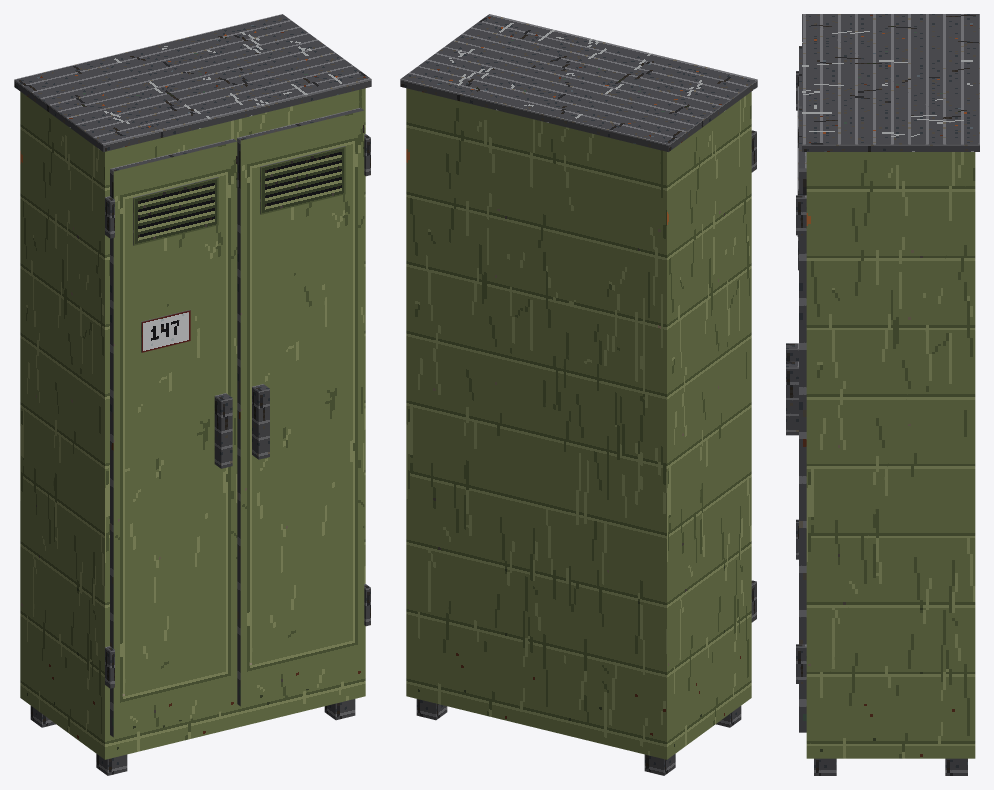
File: SM_Prop_LockerMetal_01.glb
3 views of the same model, side by side, from view 1: azimuth 30°, elevation 25°; view 2: azimuth 150°, elevation 25°; view 3: azimuth 270°, elevation 25° (orthographic).
Parts seen in each view (by area): view 1: SM_Prop_LockerMetal_01; view 2: SM_Prop_LockerMetal_01; view 3: SM_Prop_LockerMetal_01.
Boxes of the visible parts, x1,y1,x2,y2 form: SM_Prop_LockerMetal_01: (14, 14, 371, 775); SM_Prop_LockerMetal_01: (400, 14, 757, 775); SM_Prop_LockerMetal_01: (786, 14, 979, 775).
Bounding box in the file's own units: 0.824 × 1.87 × 0.517.
Materials: 1 (1 with a texture image).
